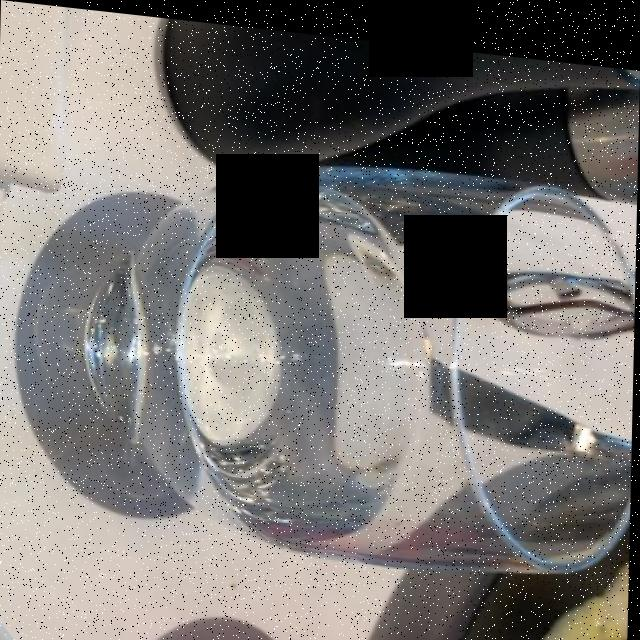water: (67, 152, 424, 542)
